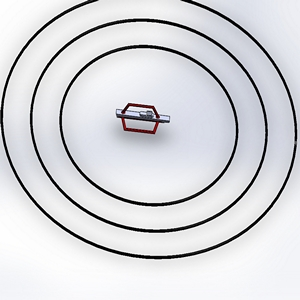circle: (1, 1, 299, 262)
submarine: (110, 87, 173, 145)
